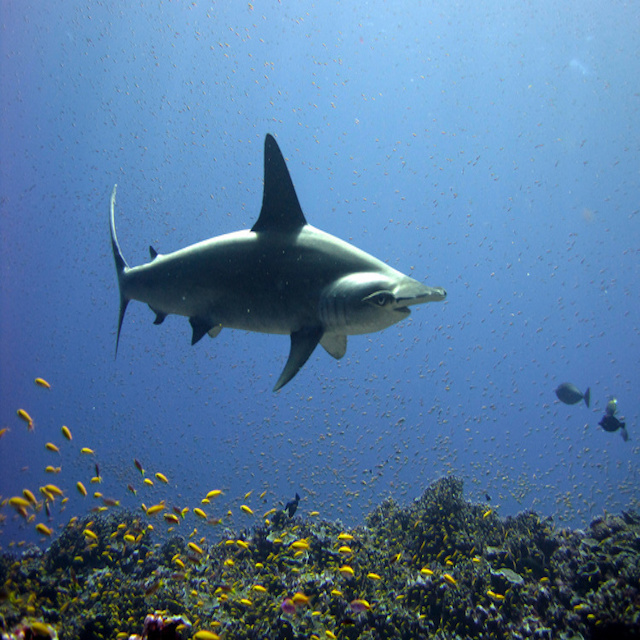hammerhead: (291, 225, 450, 344)
